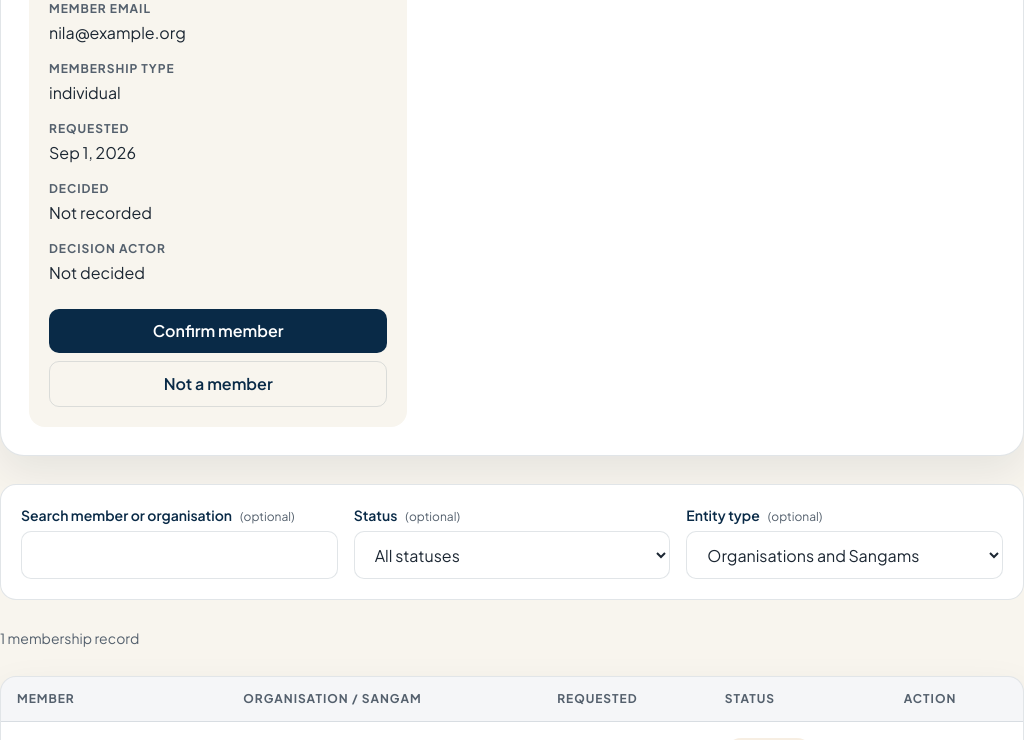
Scenario: AdminMembershipOperations › will not record a rejection without a reason, and says so
(page scrolled)
Click the button "Not a member" at (218, 384), box [49,361,387,407]
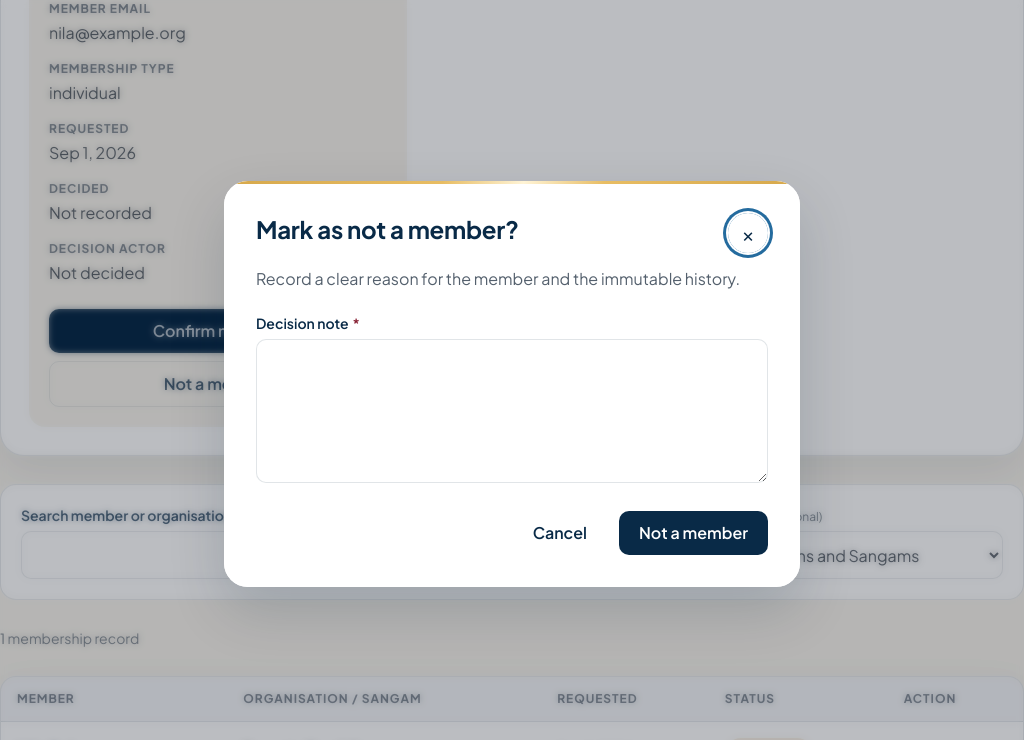
Click the button "Not a member" at (694, 533), box [619,511,768,555]
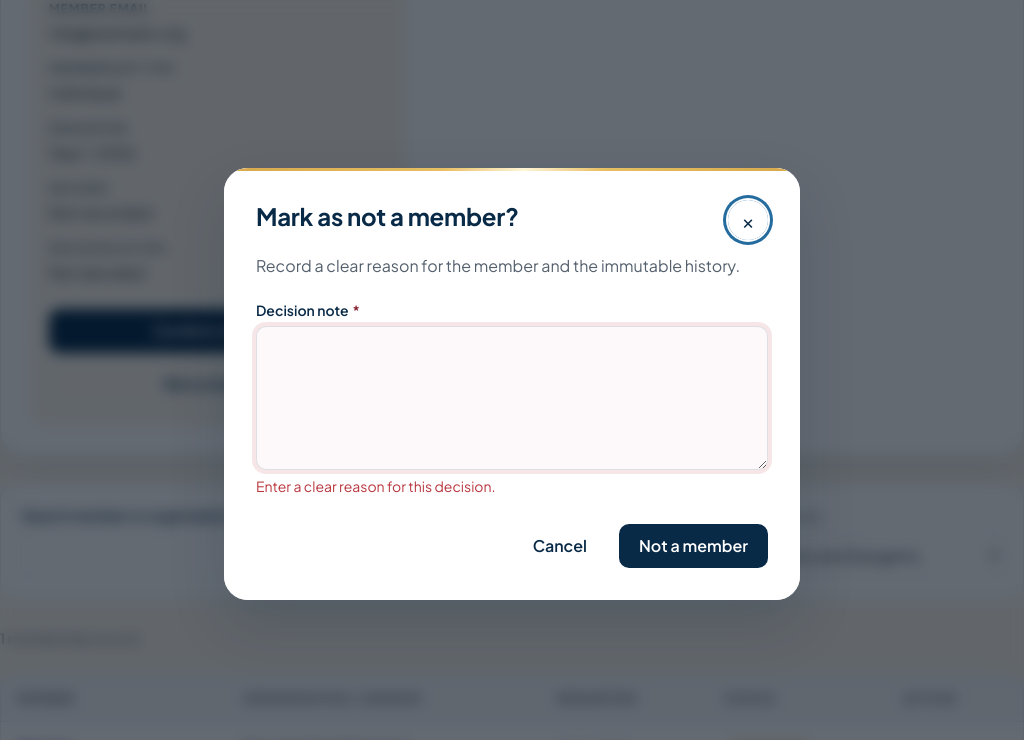
expect the text "Enter a clear reason for this decision." is shown: met, box [256,477,496,495]
